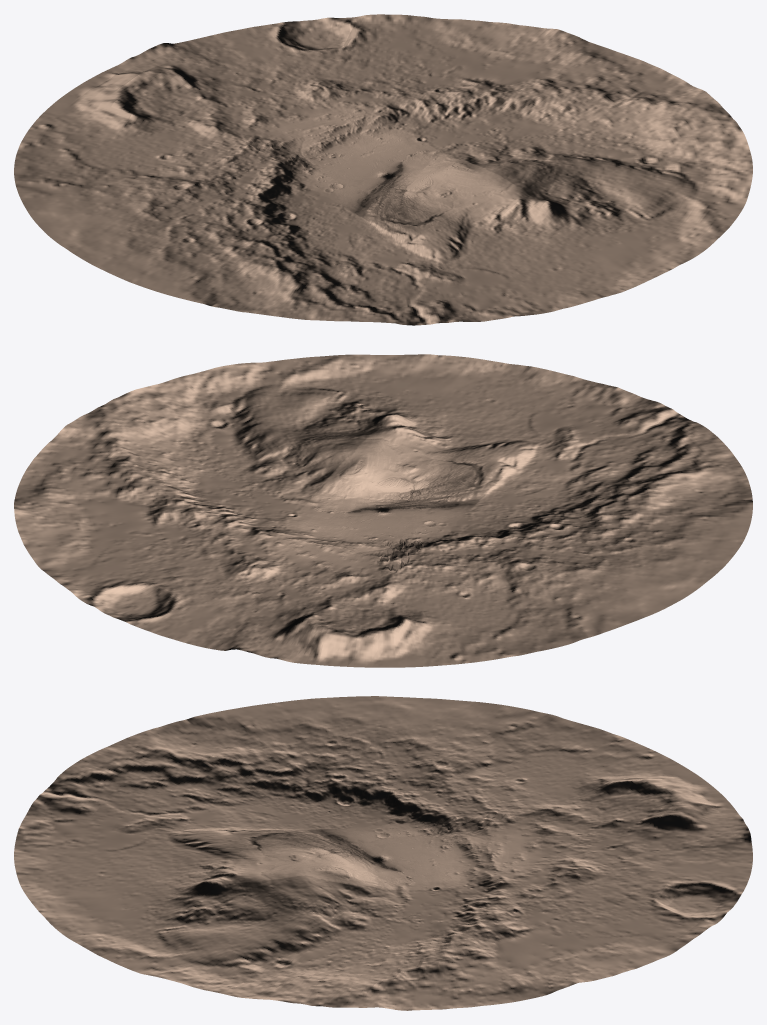
The model's file is gale.glb.
3 renders of one model, top to bottom at view 1: azimuth 30°, elevation 25°; view 2: azimuth 150°, elevation 25°; view 3: azimuth 270°, elevation 25°, orthographic.
Visible parts, largest first — view 1: Horizon; view 2: Horizon; view 3: Horizon.
Part boxes in pixels (bbox=[...]): Horizon: bbox=[14, 14, 752, 325]; Horizon: bbox=[14, 354, 752, 667]; Horizon: bbox=[14, 696, 752, 1010].
Bounding box in the file's own units: 199971 × 5518 × 199971.
2 materials, 2 textured.
